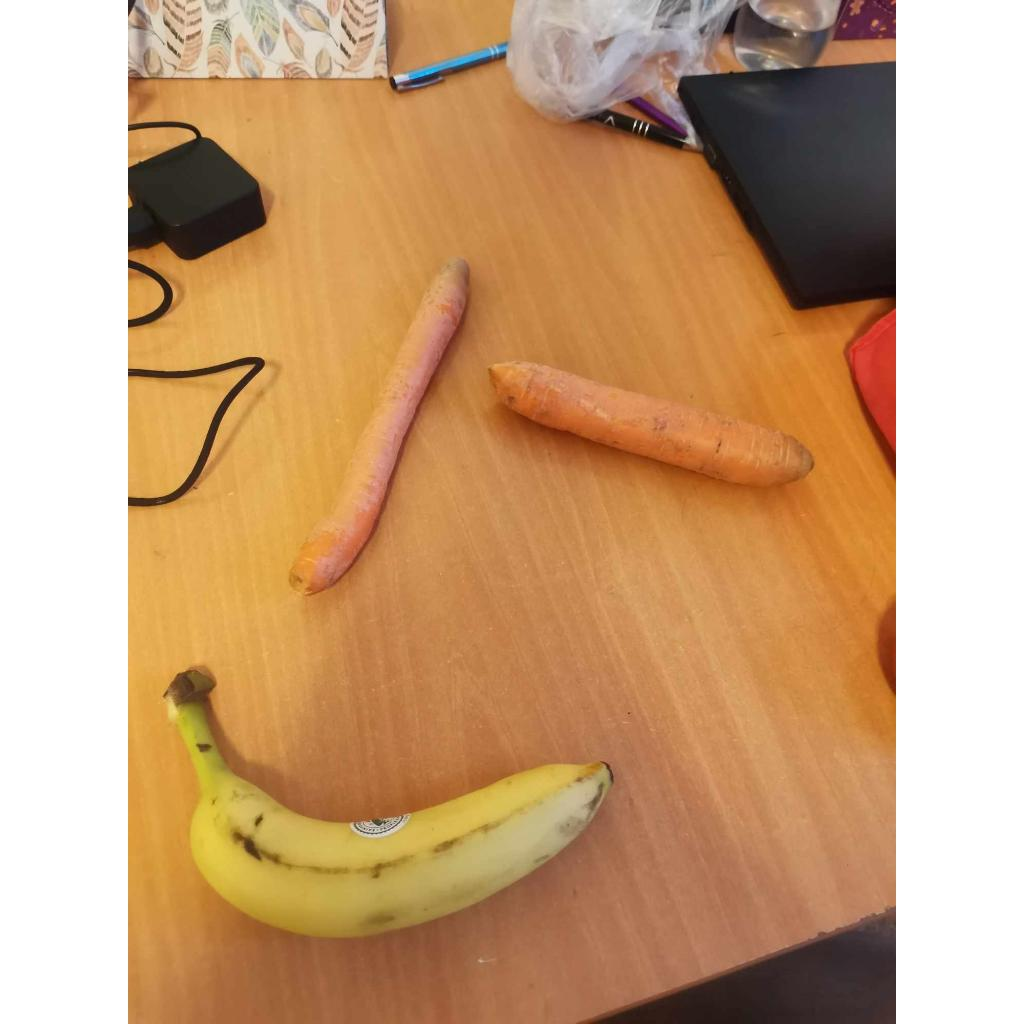banana: (166, 670, 612, 936)
carrot: (290, 258, 470, 594), (490, 362, 814, 486)
